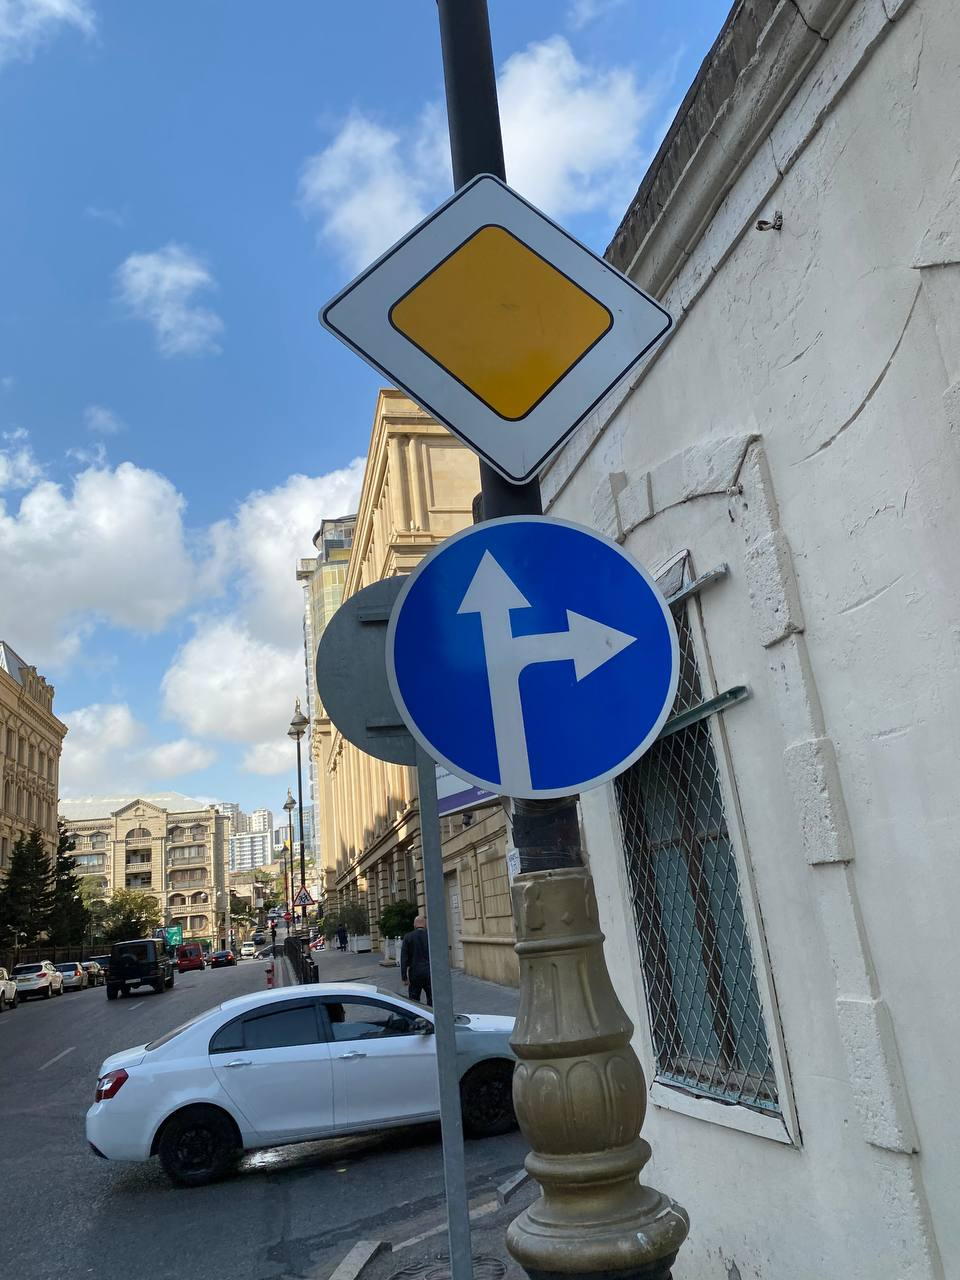Main Road: (318, 173, 676, 485)
Straight or Right: (386, 515, 680, 800)
